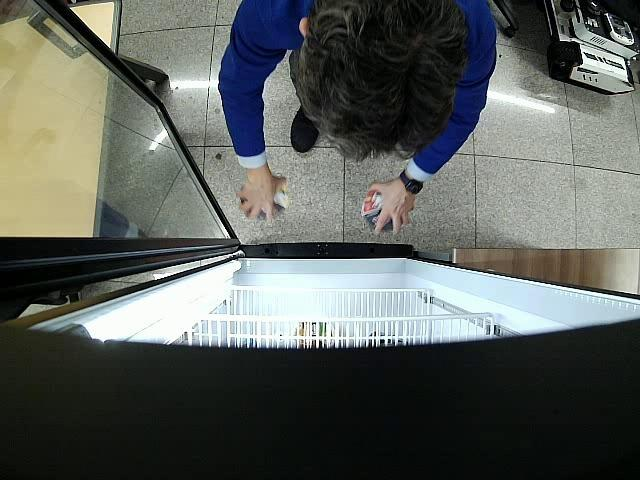07_buldak_L: (238, 184, 288, 220), (362, 190, 404, 232)
